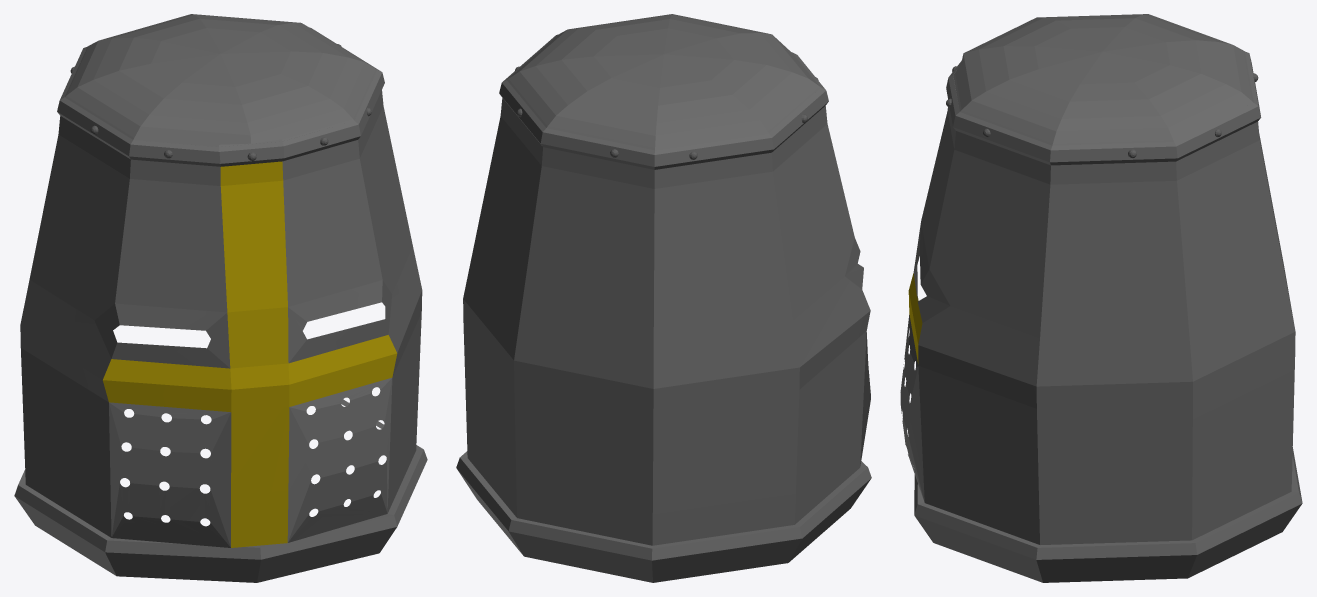
Rendered from outfit_knight_helmet.glb.
The picture shows the model from 3 angles, left to right: view 1: azimuth 30°, elevation 25°; view 2: azimuth 150°, elevation 25°; view 3: azimuth 270°, elevation 25°; orthographic projection.
Visible parts, largest first — view 1: outfit_knight_helmet; view 2: outfit_knight_helmet; view 3: outfit_knight_helmet.
Boxes of the visible parts, left/top/right/bottom form: outfit_knight_helmet: left=14, top=14, right=427, bottom=582; outfit_knight_helmet: left=456, top=14, right=871, bottom=582; outfit_knight_helmet: left=900, top=14, right=1302, bottom=582.
Bounding box in the file's own units: 0.2391 × 0.3 × 0.2404.
